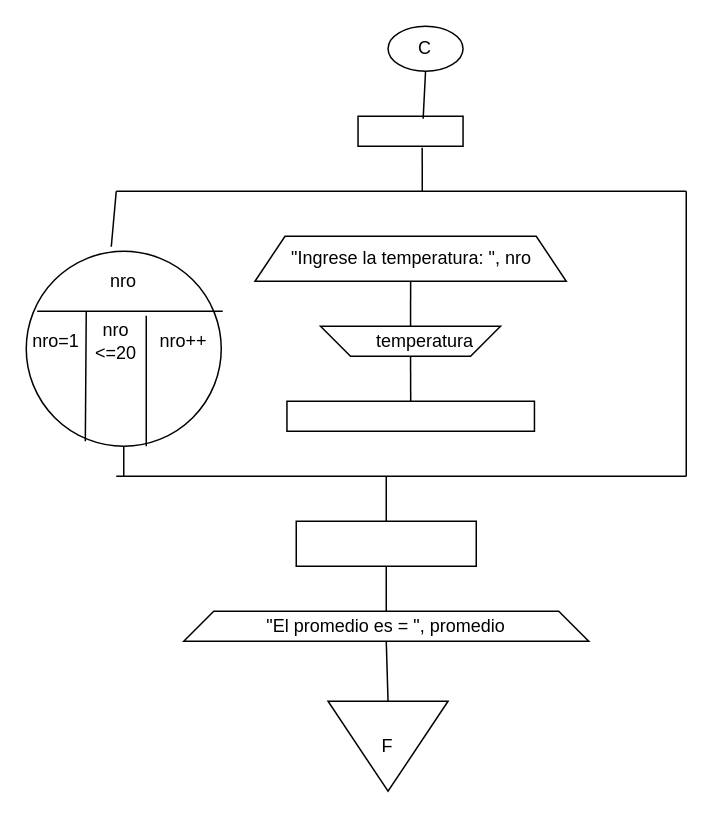
This 714x818 diagram has some shape labels left out. Here are the shapes that lost their labels. From the top down, the box of each, then its label:
(357, 115, 463, 146): suma = 0
(285, 400, 534, 431): suma += temperatura
(295, 520, 476, 566): promedio = suma/20
